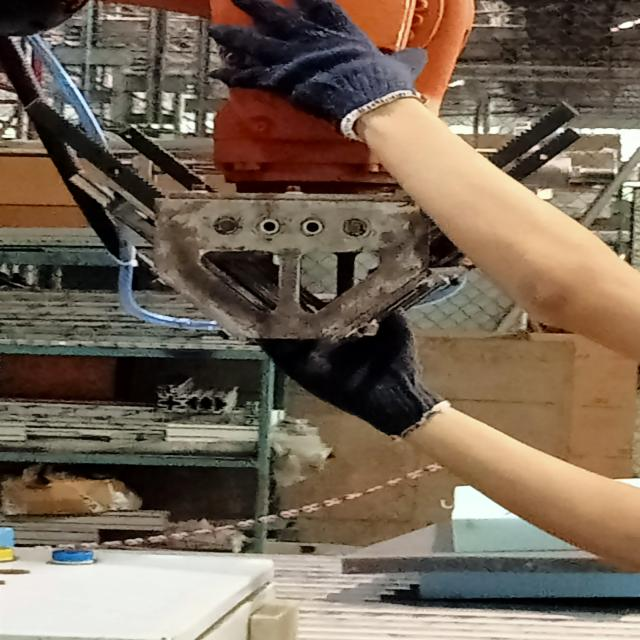Gloves-Detection: (182, 3, 446, 164), (245, 337, 483, 441)
